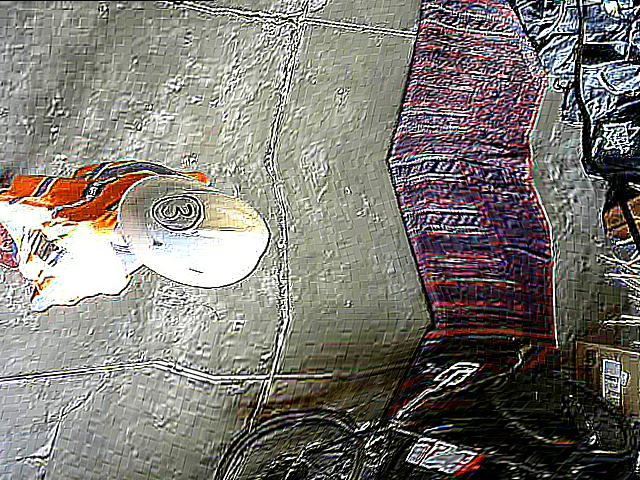three: (152, 194, 205, 234)
